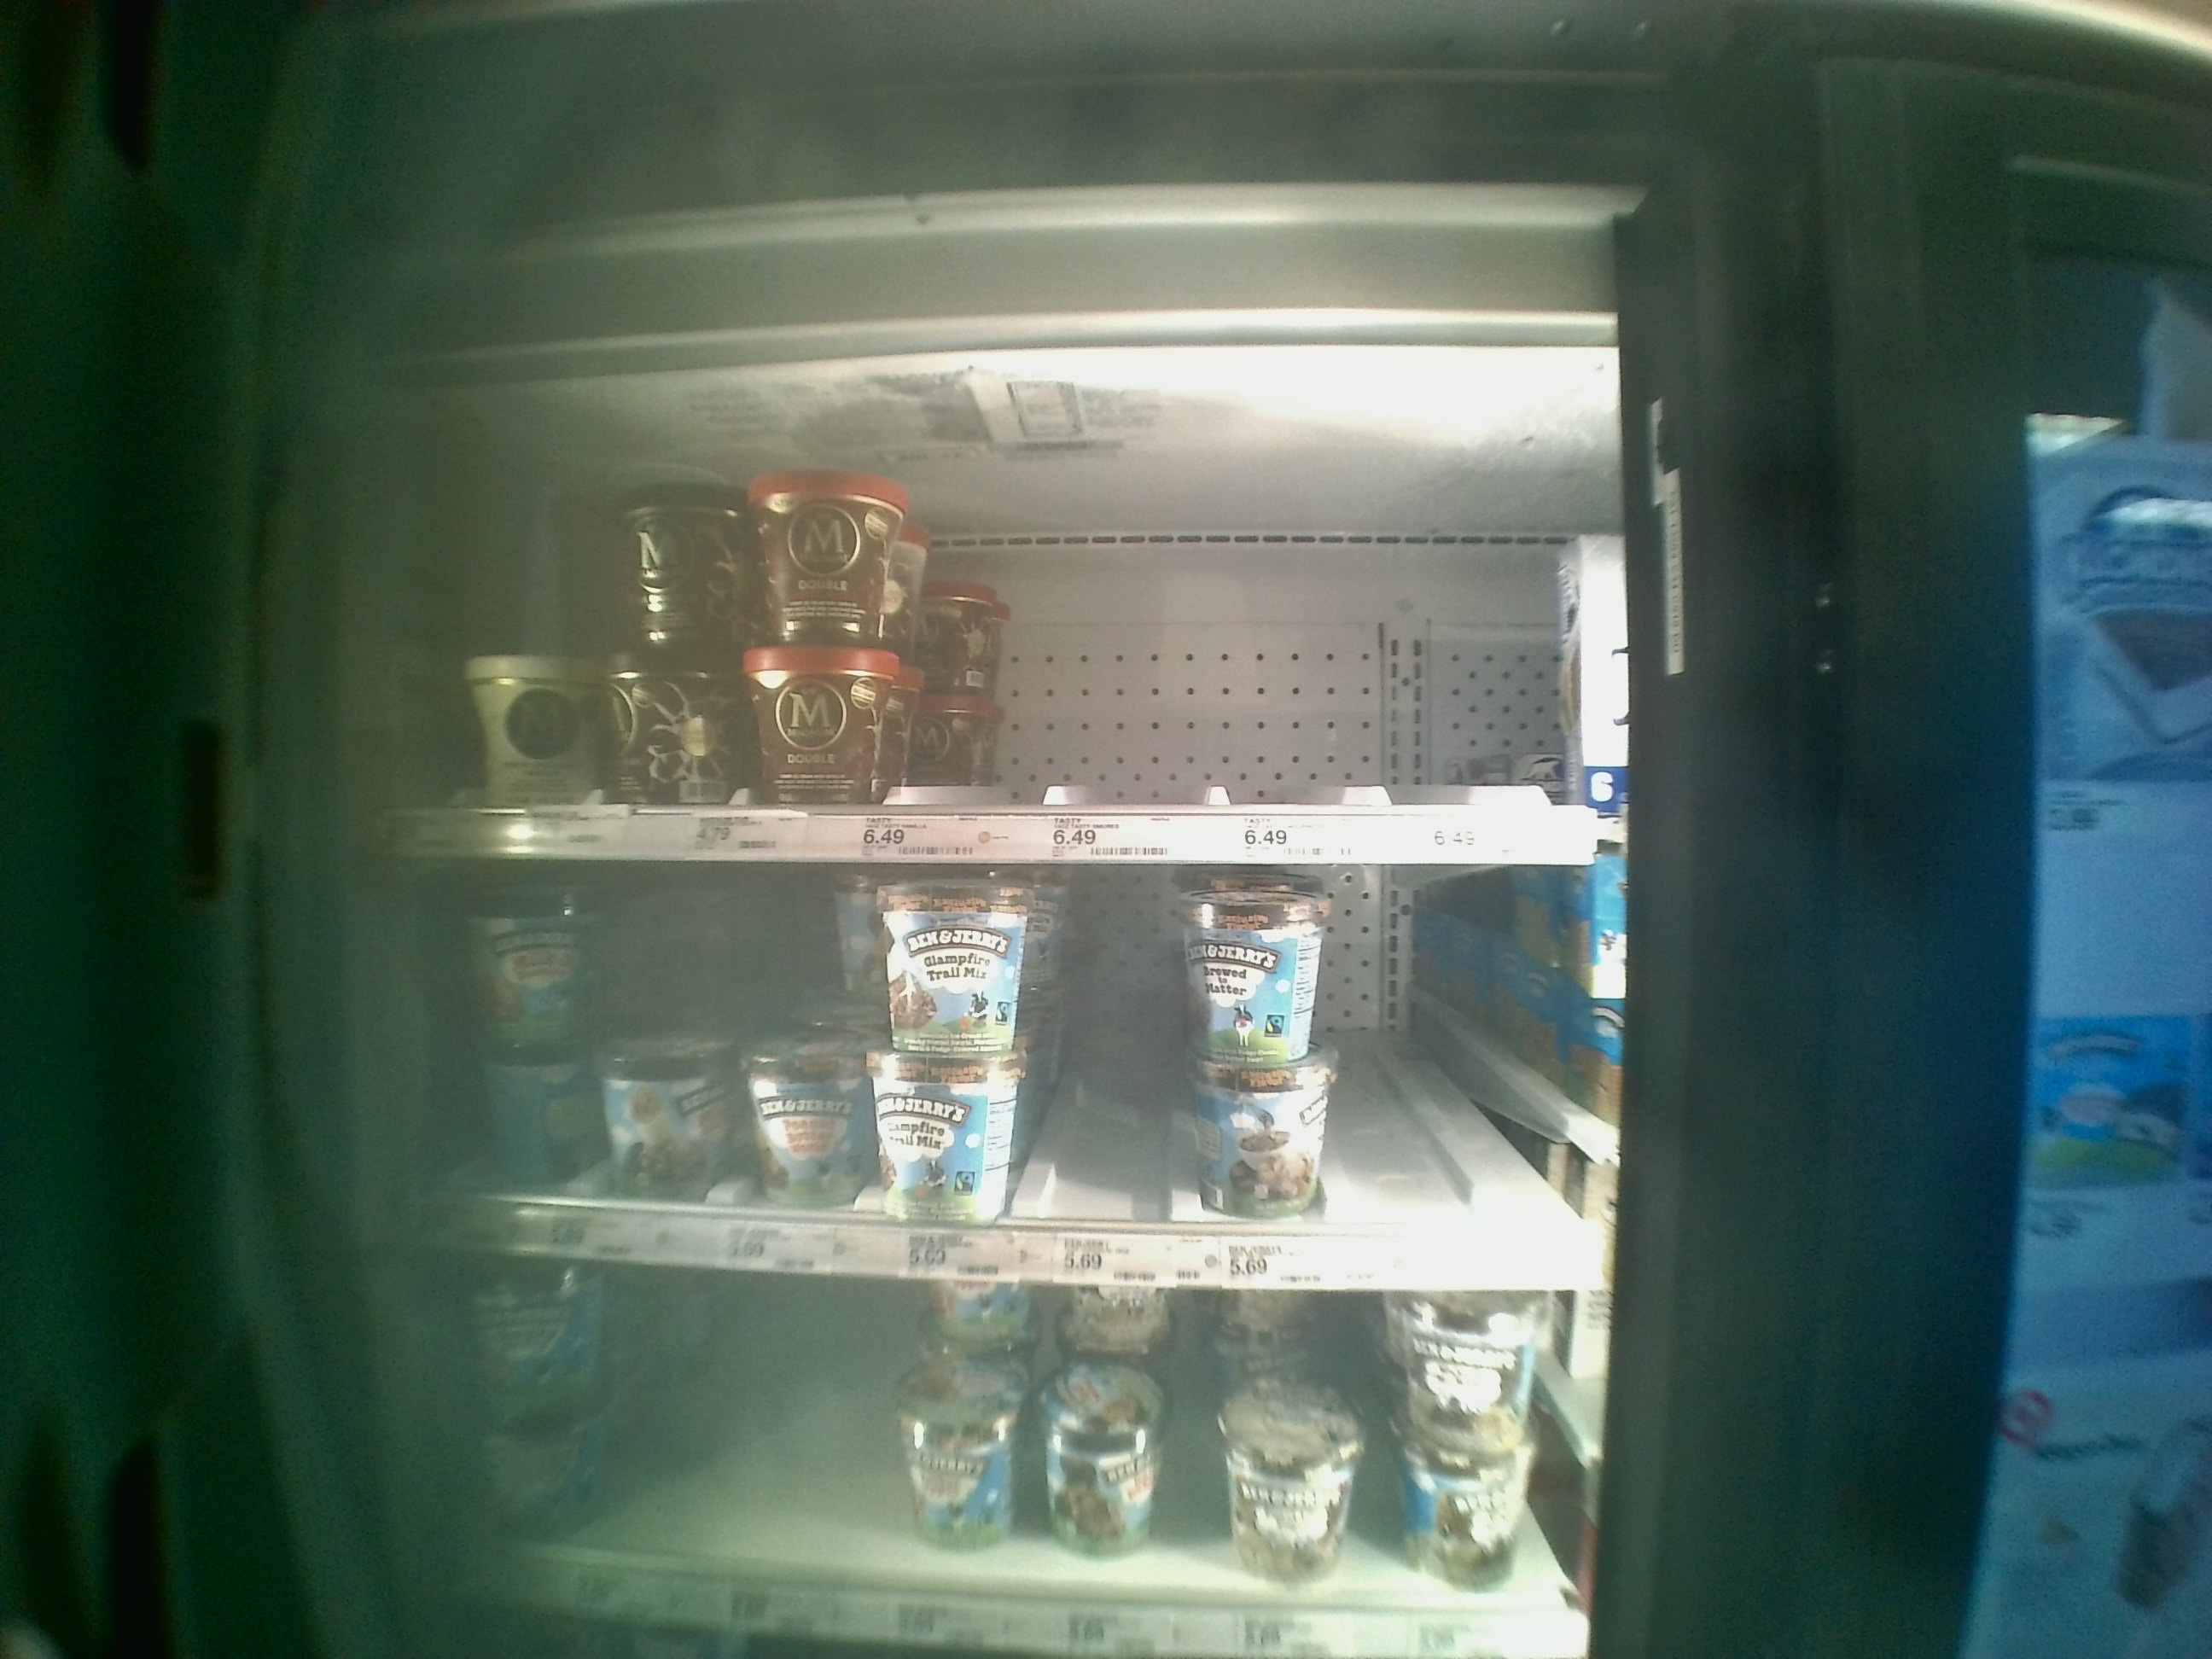shelf: (369, 859, 1618, 1290), (376, 462, 1622, 878)
